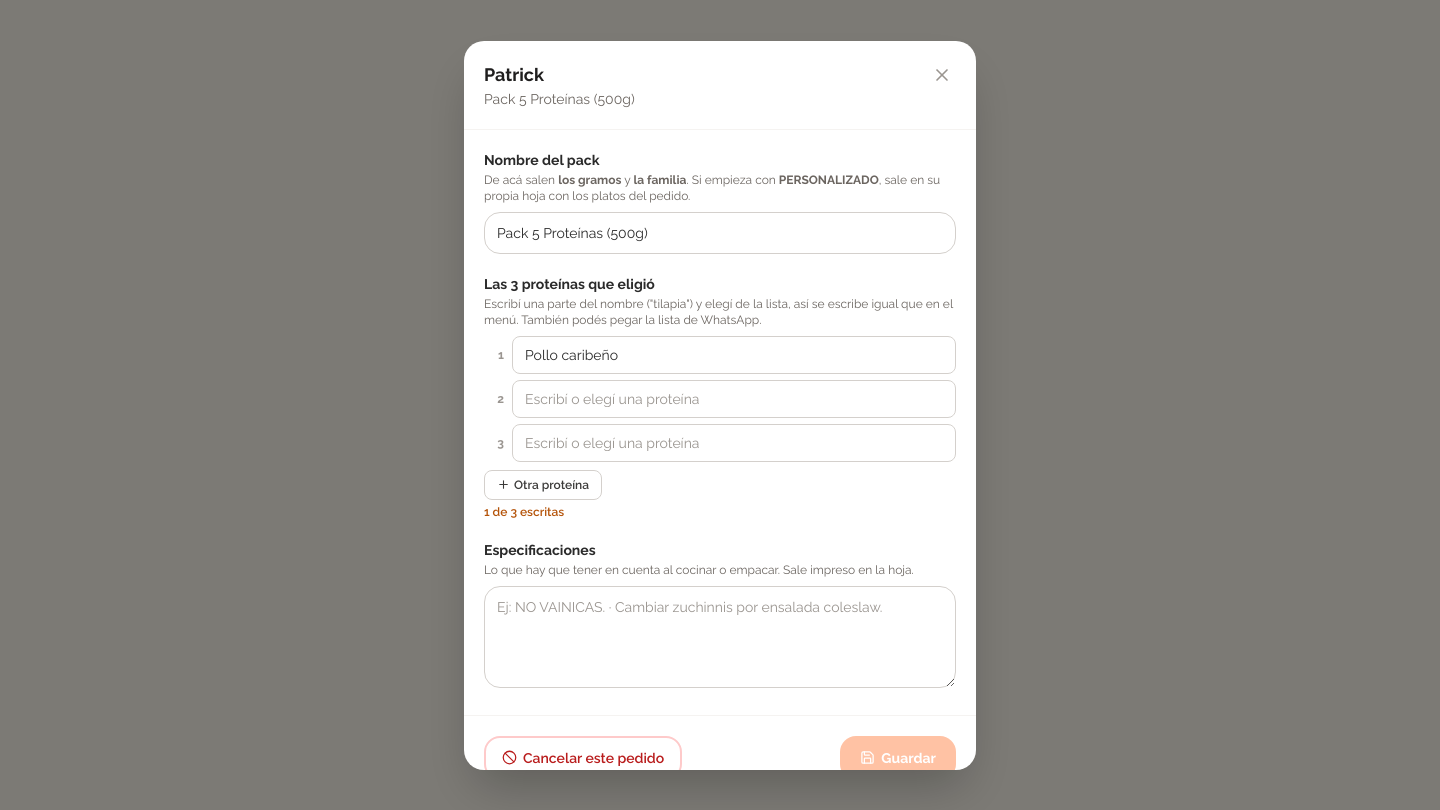
it: proteínas con autocompletar › con el teclado: flecha abajo y Enter elige
Type "cerdo" into the dropdown named "Proteína 2" at point(734, 398), box [512,380,956,418]
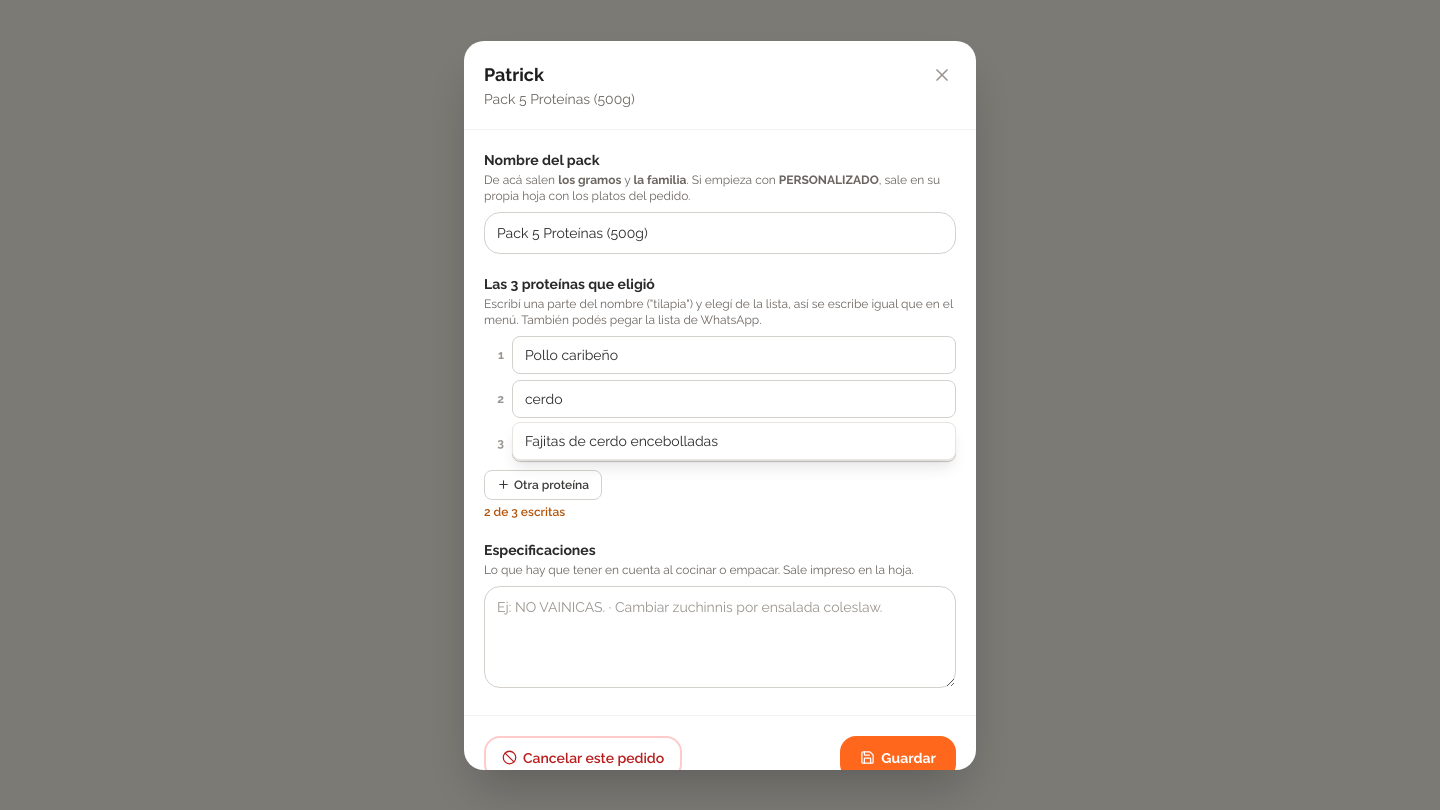
Press ArrowDown in the dropdown named "Proteína 2", box [512,380,956,418]
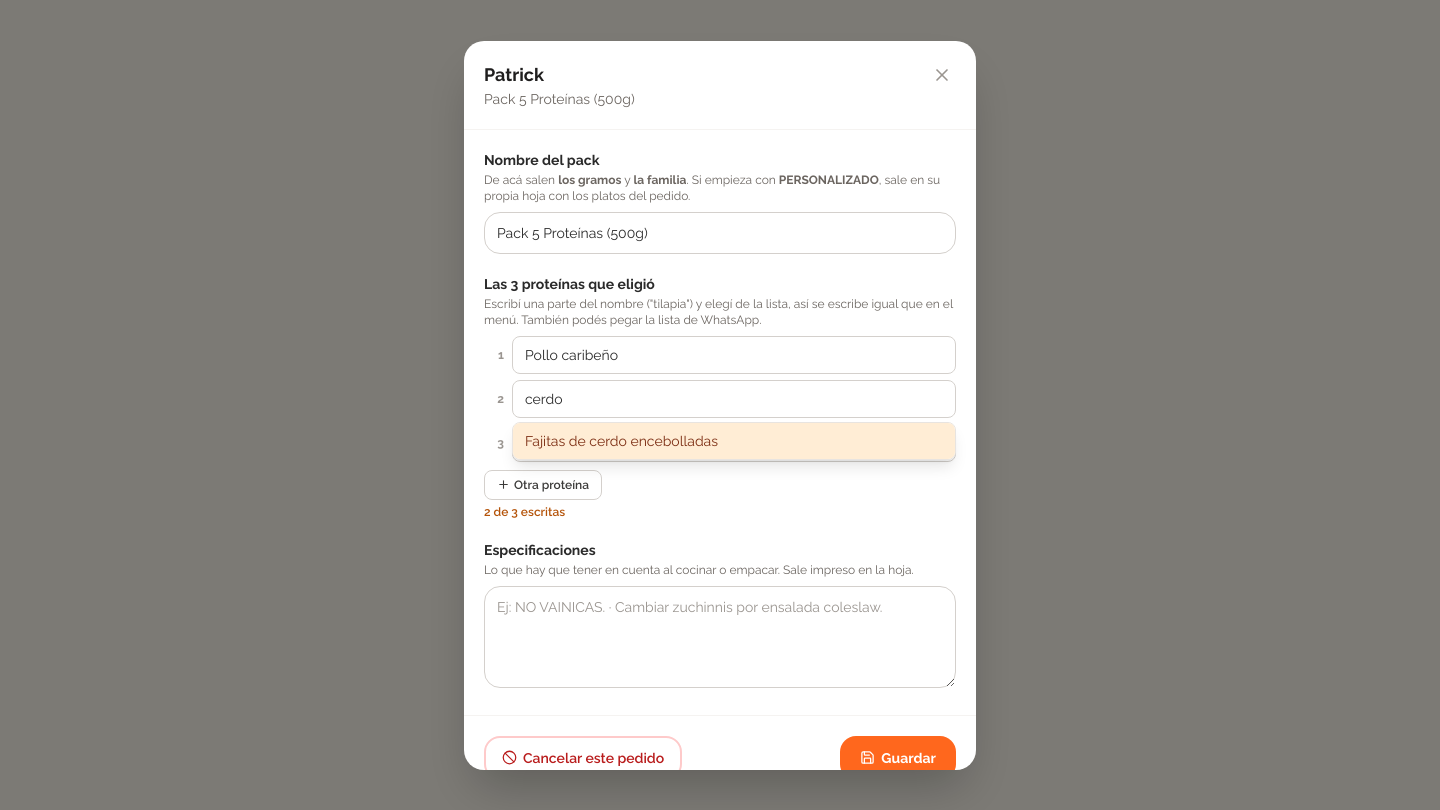
Press Enter in the dropdown named "Proteína 2", box [512,380,956,418]
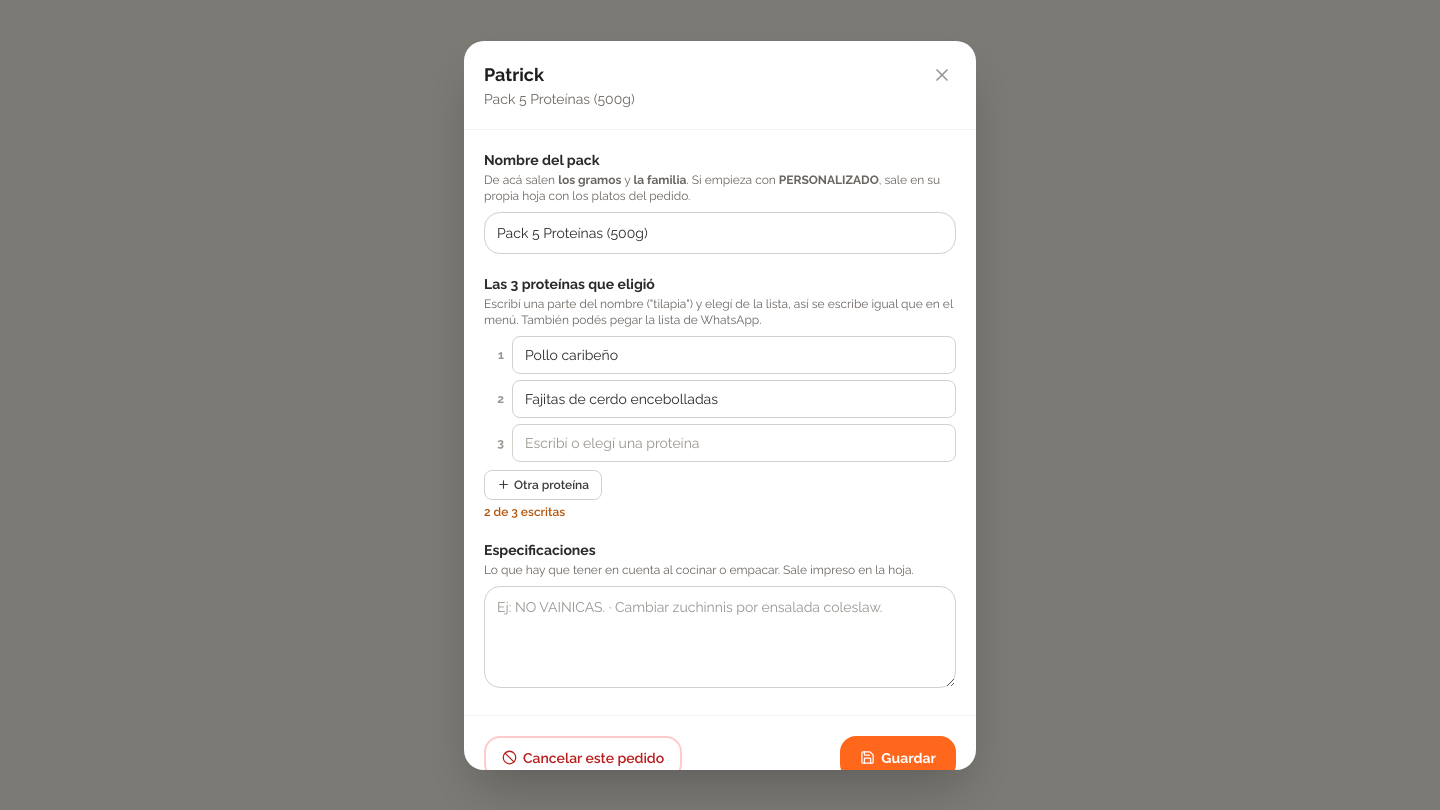
Check: the dropdown named "Proteína 2" holds "Fajitas de cerdo encebolladas", box [512,380,956,418]
